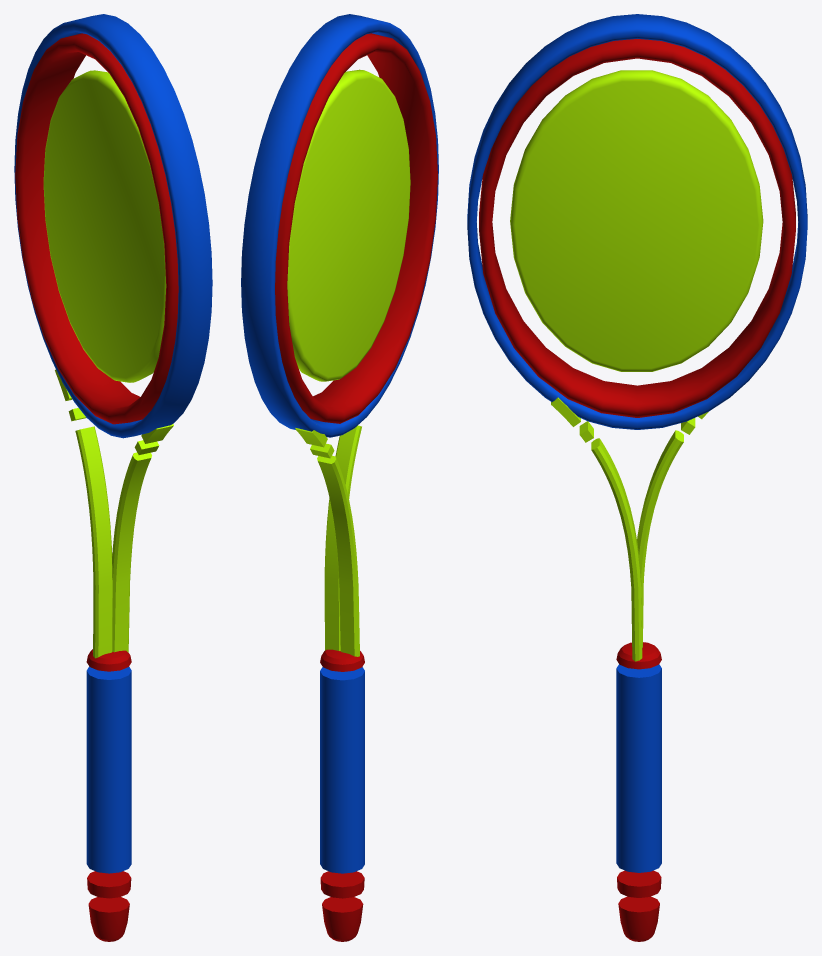
File: SM_Racket.fbx
3 views of the same model, side by side, from view 1: azimuth 30°, elevation 25°; view 2: azimuth 150°, elevation 25°; view 3: azimuth 270°, elevation 25° (orthographic).
Visible parts, largest first — view 1: Cylinder002; view 2: Cylinder002; view 3: Cylinder002.
Part boxes in pixels (x1,y1,x2,y2): Cylinder002: (14,14,212,941); Cylinder002: (241,14,438,941); Cylinder002: (467,14,807,941).
Bounding box in the file's own units: 3.87 × 75.51 × 25.27.
